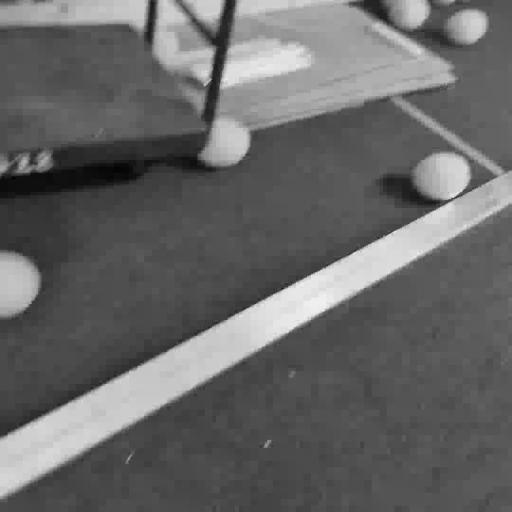fuel: (411, 152, 470, 201), (0, 251, 41, 319), (198, 117, 250, 168), (444, 9, 488, 44), (387, 0, 430, 31), (153, 28, 179, 69), (430, 0, 457, 6), (380, 0, 390, 8)
